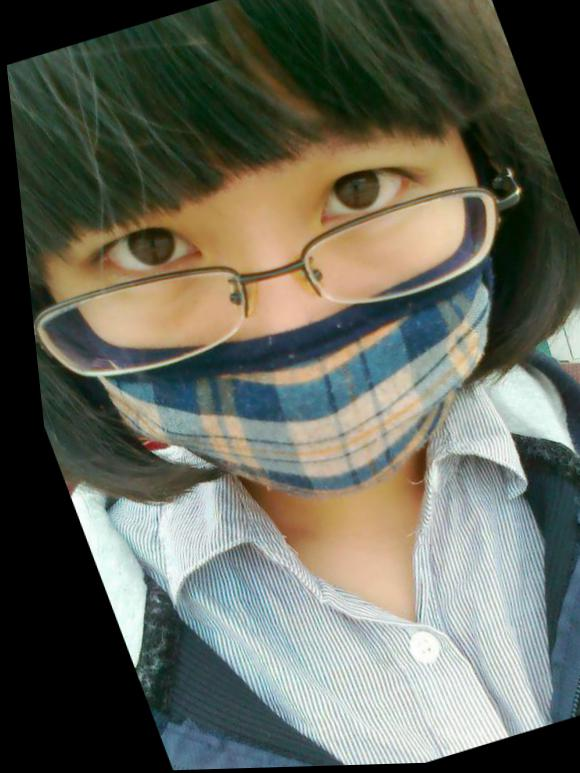WRONG: (22, 86, 548, 556)
